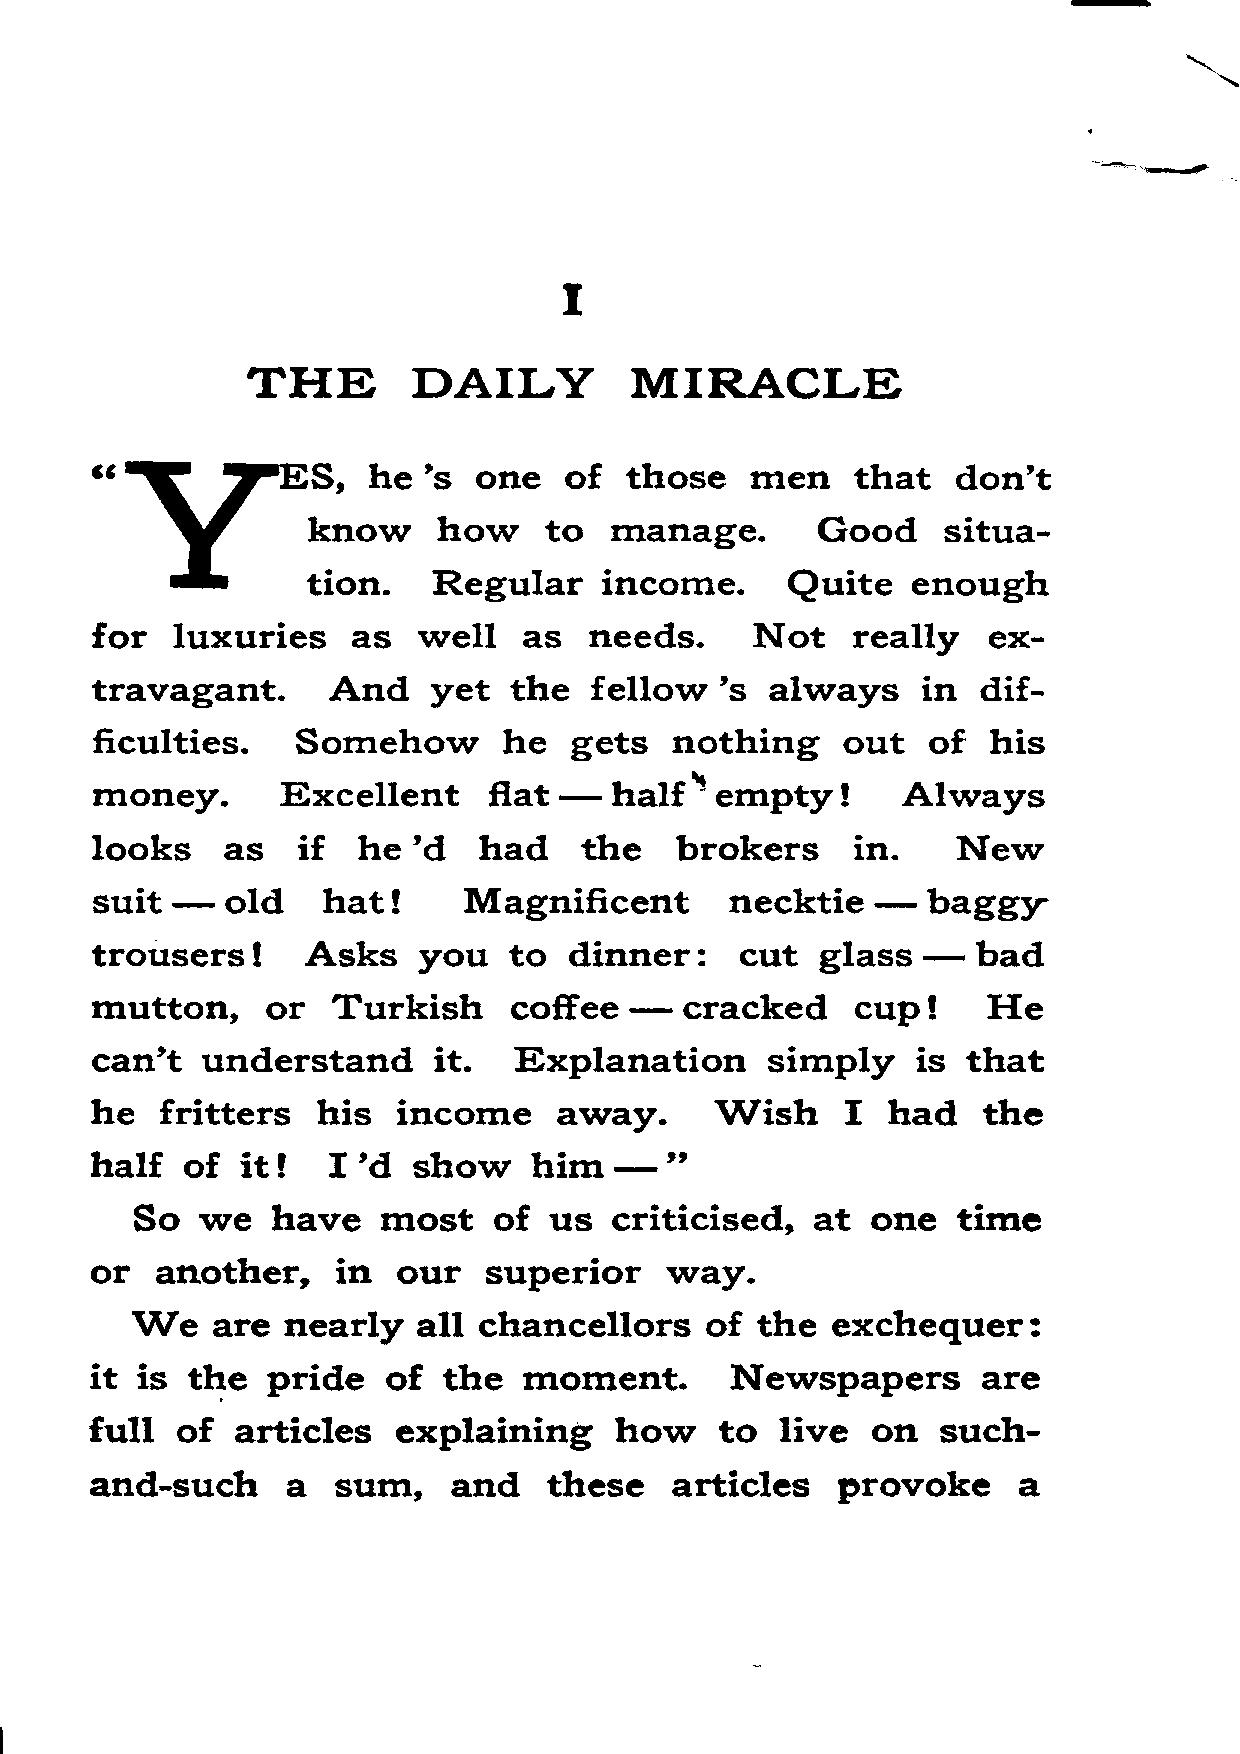chapter: (243, 280, 902, 403)
content: (86, 458, 1051, 1504)
